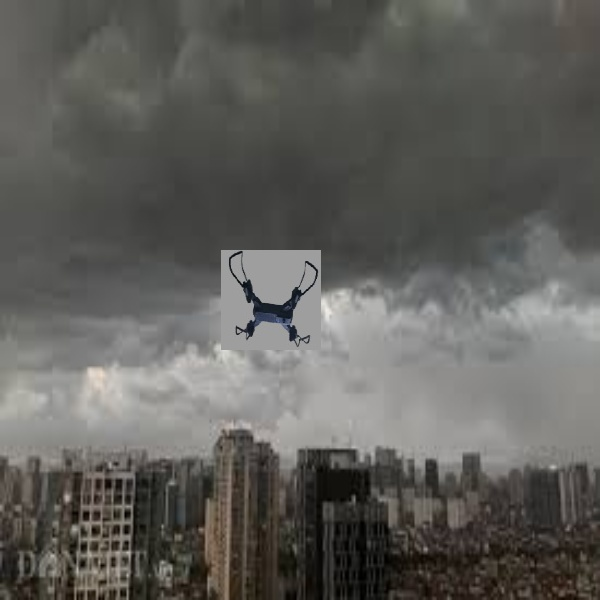drone: (222, 252, 319, 350)
